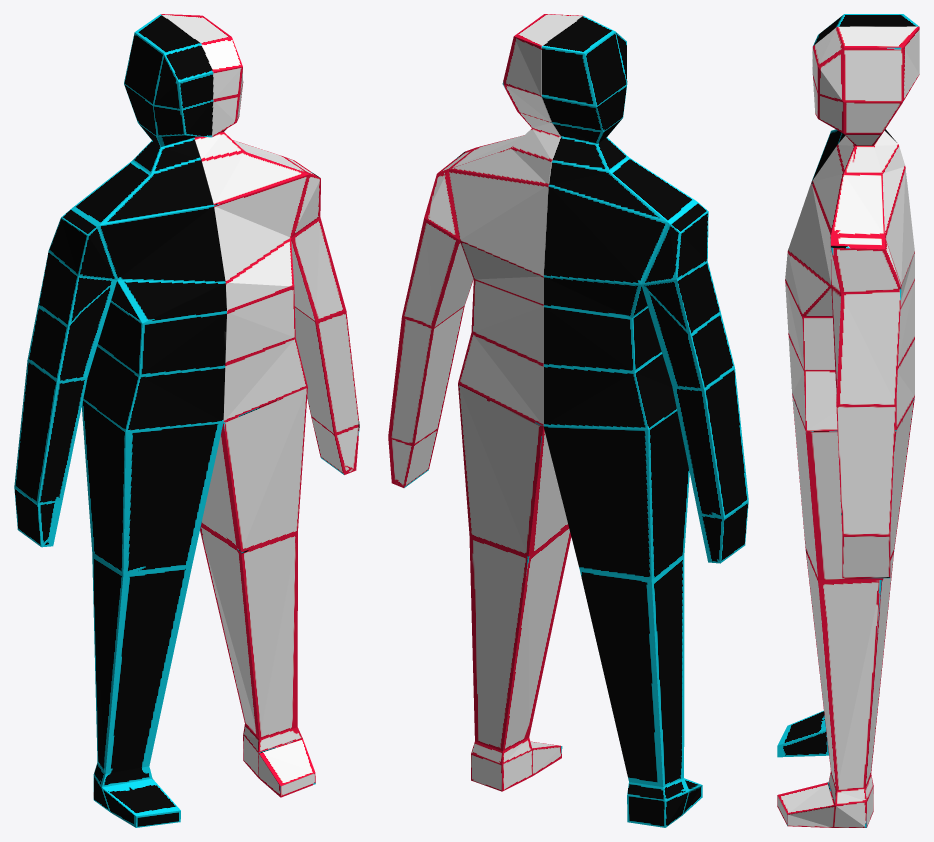
Rendered from newHuman.obj.
3 renders of one model, left to right at view 1: azimuth 30°, elevation 25°; view 2: azimuth 150°, elevation 25°; view 3: azimuth 270°, elevation 25°, orthographic. The views are drawn at different scales.
Parts seen in each view (by area): view 1: Cube; view 2: Cube; view 3: Cube.
Part boxes in pixels (x1,y1,x2,y2): Cube: (14,14,359,827); Cube: (388,14,748,827); Cube: (777,14,919,827).
Size of the model in its own units: 3.05 by 6.75 by 1.15.
